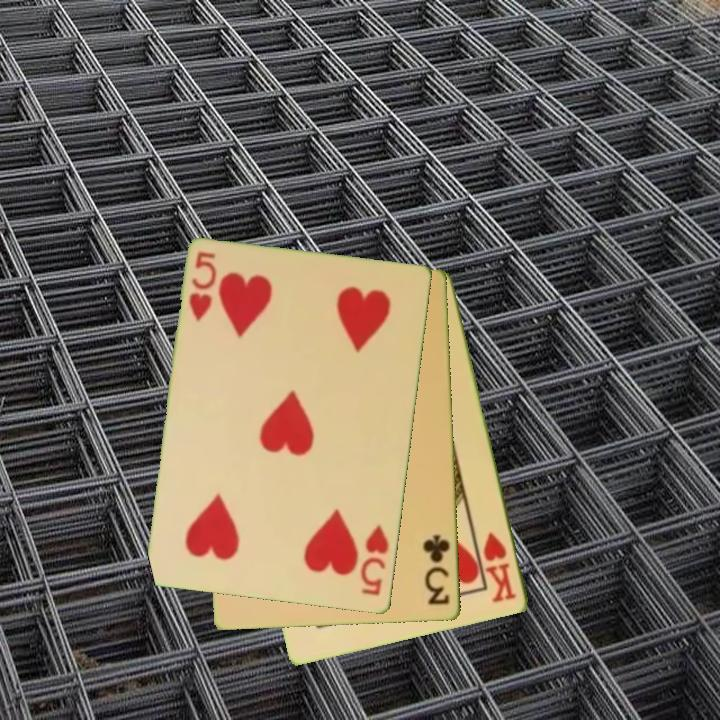3c: (420, 531, 453, 608)
5h: (357, 522, 393, 599), (185, 248, 220, 325)
Kh: (480, 529, 521, 606)
